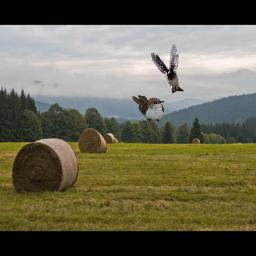Cuckoo: (132, 95, 165, 124)
Swallow: (151, 44, 184, 93)
